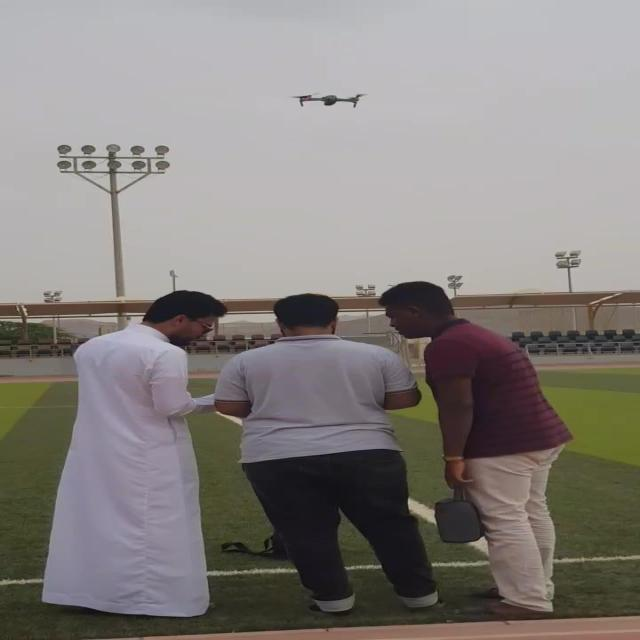drone: (288, 91, 365, 111)
